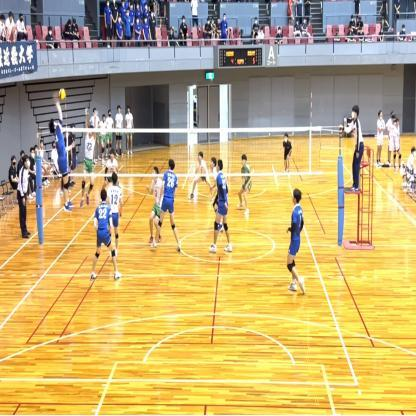spike: (47, 85, 76, 216)
